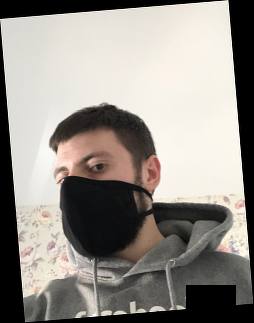with_mask: (56, 148, 141, 261)
